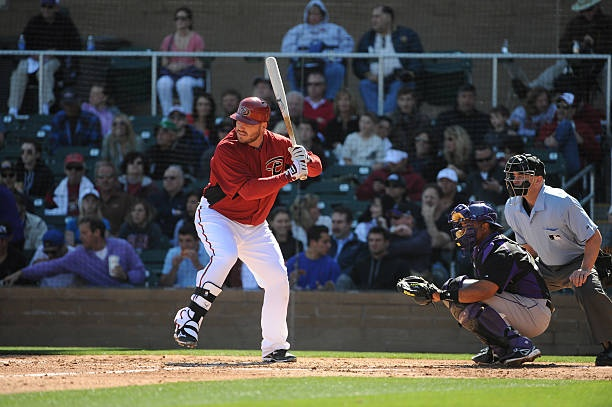bita: (264, 54, 303, 180)
